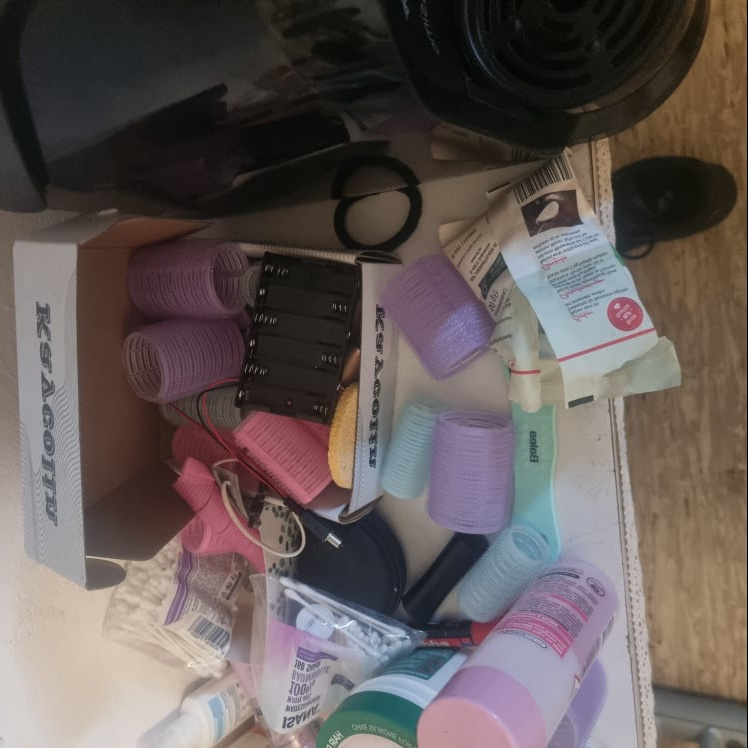BATTERY BOX: (235, 254, 361, 427)
